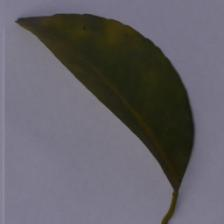greening: (12, 3, 150, 73)
